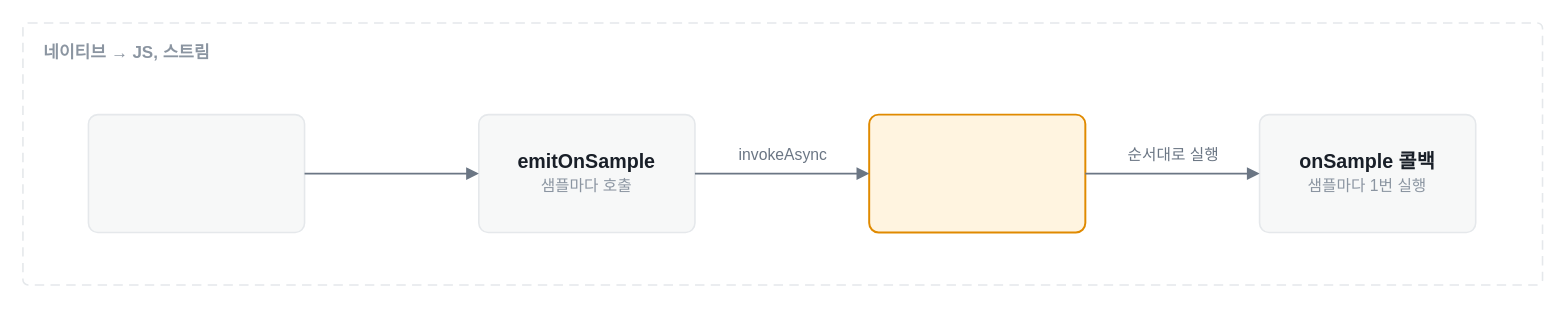
Some shapes in this 1567 by 309 pixel diagram are drawn without their labels. Here are the shapes that lost their labels. From the top down, the centre of each, then its label:
the point at 196,173: CoreMotion 콜백 샘플 1개
the point at 977,173: JS 스레드 작업 대기 읽은 코드 기준 상한 없음
